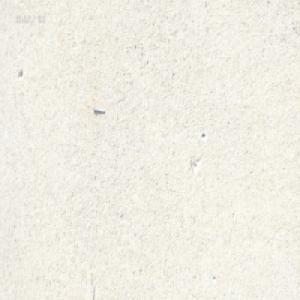Nail: (92, 104, 105, 113)
